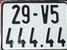-: (33, 13, 38, 16)
.: (40, 44, 43, 47)
2: (12, 5, 20, 24)
4: (17, 27, 26, 48), (29, 27, 38, 48), (57, 27, 66, 47), (6, 28, 14, 48), (46, 27, 54, 47)
5: (50, 5, 59, 24)
9: (22, 5, 30, 24)
V: (41, 5, 49, 24)
